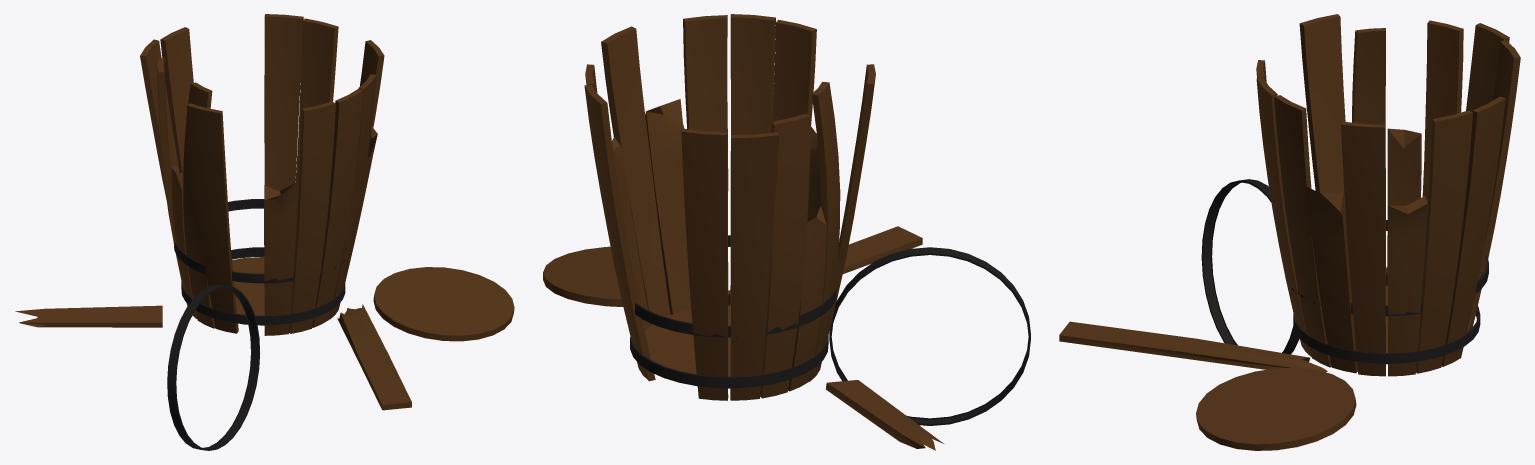
Rendered from fass_kaputt.glb.
The picture shows the model from 3 angles, left to right: view 1: azimuth 30°, elevation 25°; view 2: azimuth 150°, elevation 25°; view 3: azimuth 270°, elevation 25°; orthographic projection. The views are drawn at different scales.
Parts seen in each view (by area): view 1: fass_kaputt; view 2: fass_kaputt; view 3: fass_kaputt.
Boxes of the visible parts, <box> form: fass_kaputt: <box>15,14,514,450</box>; fass_kaputt: <box>543,14,1030,450</box>; fass_kaputt: <box>1059,14,1520,450</box>.
Bounding box in the file's own units: 1.69 × 1.23 × 1.47.
